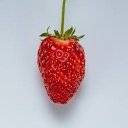strawberry: (35, 26, 88, 105)
